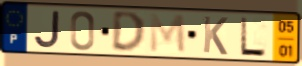0: (69, 9, 97, 52)
D: (109, 10, 148, 55)
J: (32, 9, 61, 50)
K: (201, 14, 230, 57)
L: (238, 16, 269, 59)
M: (148, 12, 188, 55)
